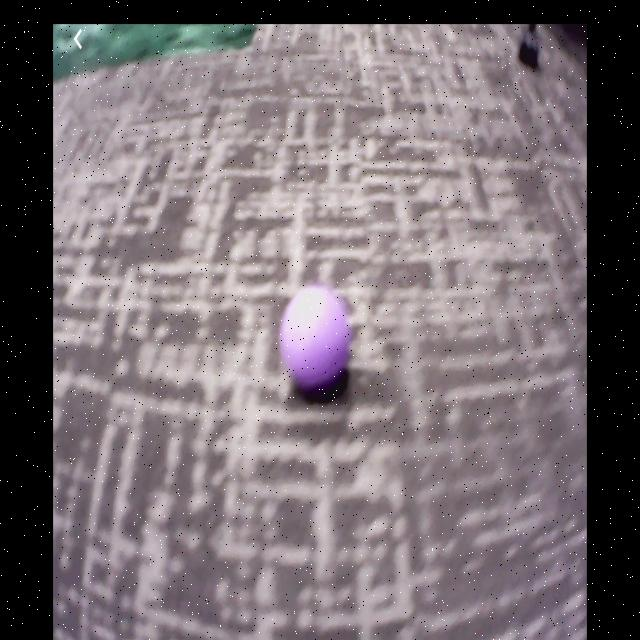ball: (283, 288, 351, 389)
